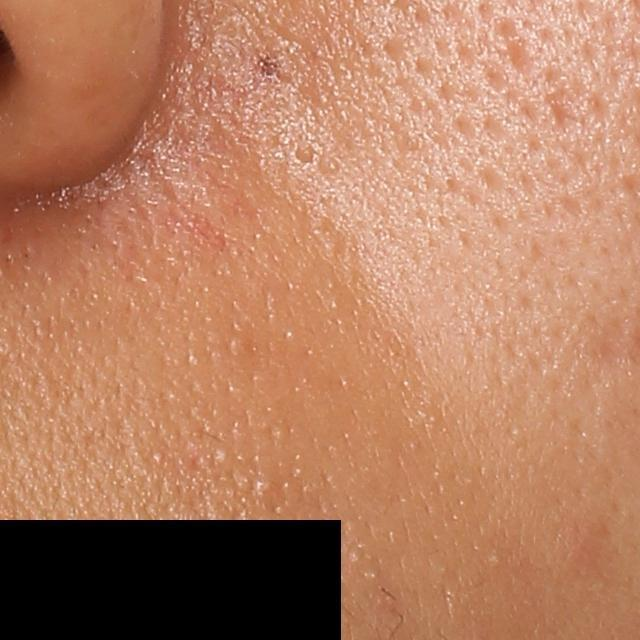atrophic_scar: (538, 63, 578, 132), (487, 19, 529, 78)
nevus: (256, 55, 280, 80)
